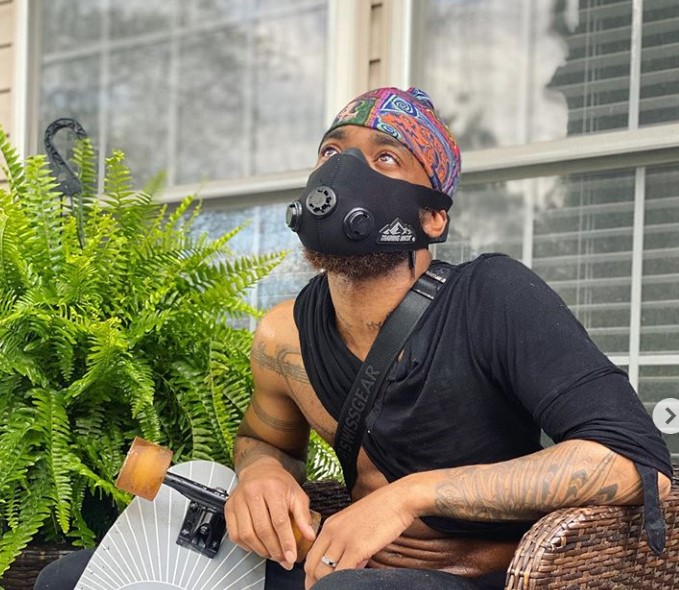face_with_mask: (290, 87, 462, 265)
